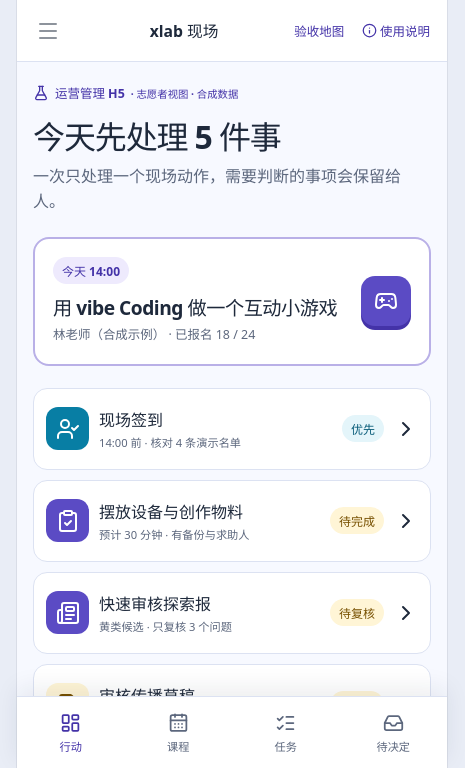
Test: xlab OPS-0 operations prototype › offers a bounded exploration review in operations H5
Click the button "快速审核探索报 黄类候选 · 只复核 3 个问题 待复核" at (68, 613), box [33,572,431,654]
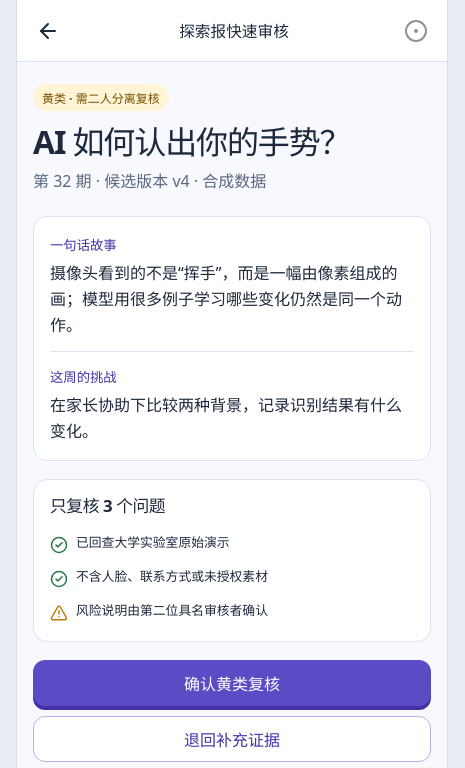
Expected: the heading "AI 如何认出你的手势？" is shown, [33,120,350,163]
Expected: the text "黄类 · 需二人分离复核" is shown, [33,84,169,111]
Expected: the button "自动发布" is gone
